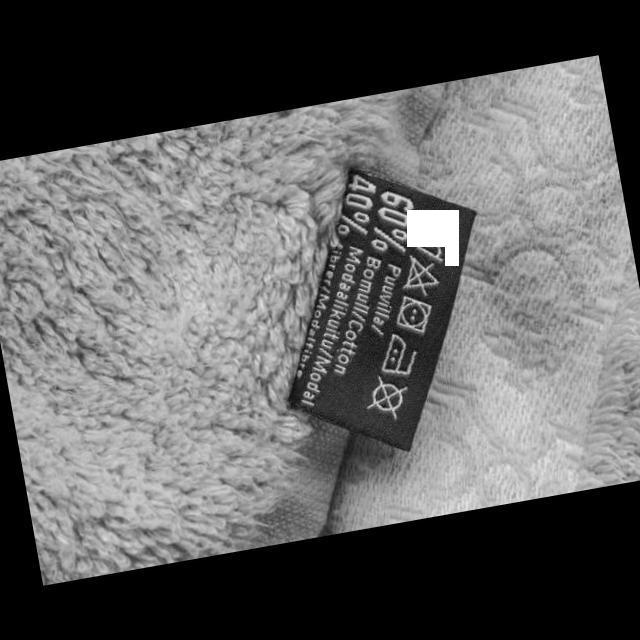DN_bleach: (394, 248, 444, 300)
DN_dry_clean: (358, 368, 415, 426)
iron_medium: (373, 327, 424, 383)
tumble_dry_medium: (388, 288, 438, 340)
